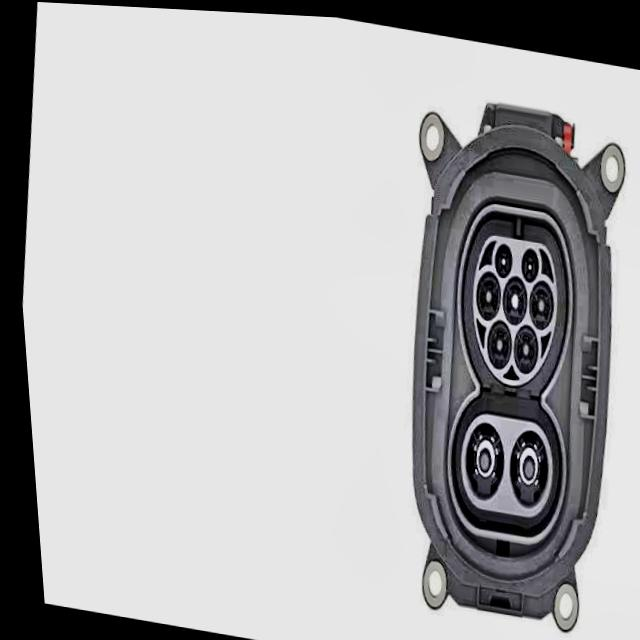inlet: (468, 230, 552, 381)
inlet-above-left: (491, 238, 508, 272)
inlet-above-right: (517, 242, 534, 277)
inlet-below-left: (481, 315, 506, 363)
inlet-below-right: (508, 319, 533, 368)
inlet-center: (498, 270, 522, 321)
inlet-center-left: (471, 265, 496, 315)
inlet-center-right: (524, 274, 549, 325)
